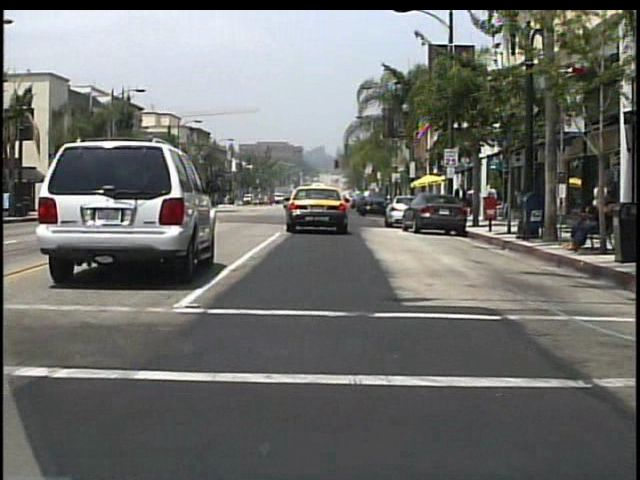person: (564, 199, 606, 256), (589, 175, 606, 238), (453, 182, 468, 219), (472, 180, 484, 217), (488, 184, 500, 220), (483, 185, 495, 218)
